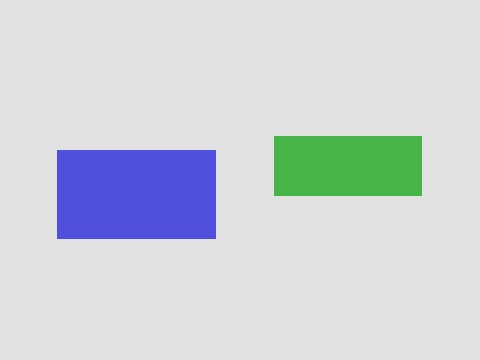tall_box: (57, 150, 215, 238)
wide_box: (274, 136, 421, 195)
